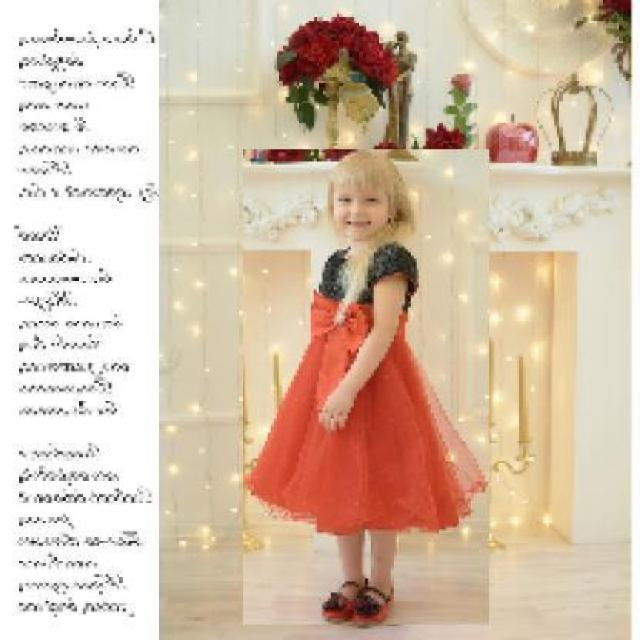child: (242, 150, 489, 627)
